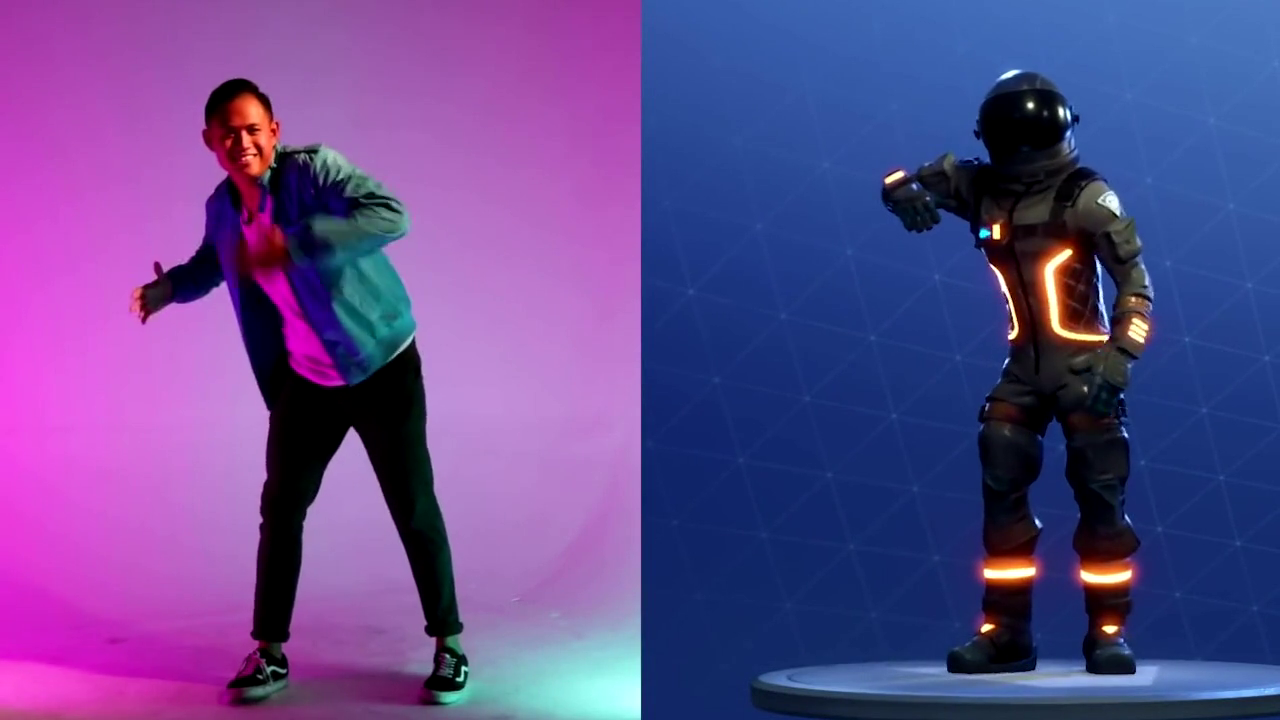Head: (187, 76, 297, 180)
Hip: (228, 343, 478, 433)
LeftAnkle: (388, 616, 523, 700)
LeftElbow: (322, 173, 429, 263)
LeftKnee: (353, 454, 449, 526)
LeftShoulder: (280, 137, 362, 203)
LeftWrist: (248, 218, 331, 291)
RightAnkle: (205, 625, 320, 701)
RightKnee: (214, 463, 325, 553)
RightShoulder: (174, 166, 267, 234)
RightWrist: (119, 247, 233, 330)
Torso: (220, 200, 397, 387)
